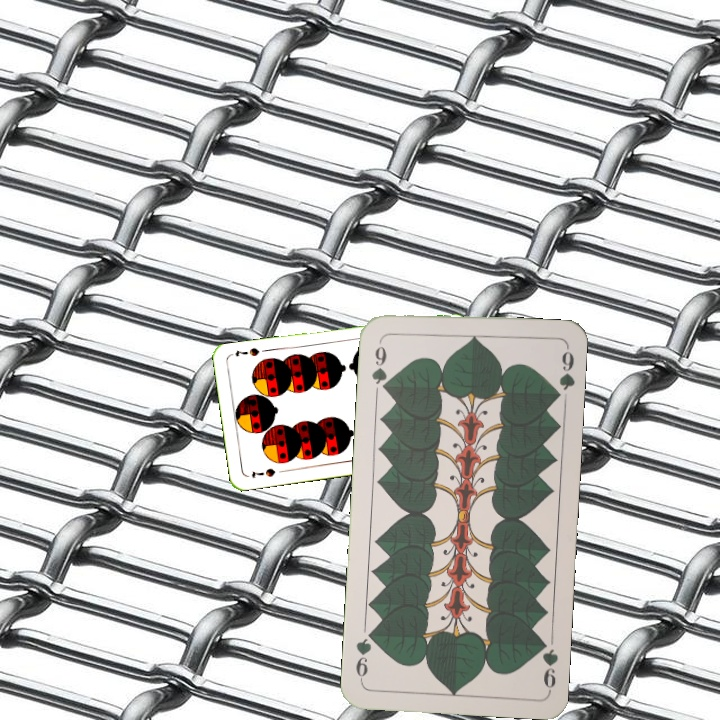G9: (535, 634, 561, 694), (368, 335, 391, 394)
S7: (248, 464, 278, 481)
